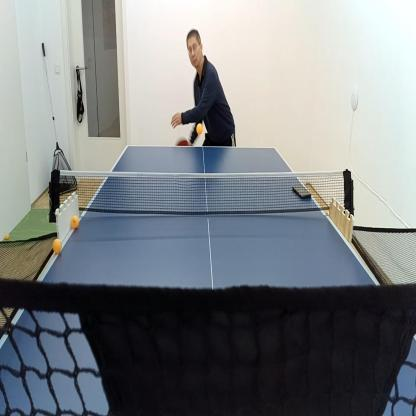Ball: (71, 216, 79, 230), (53, 239, 61, 253), (195, 122, 203, 134), (5, 233, 10, 239)
